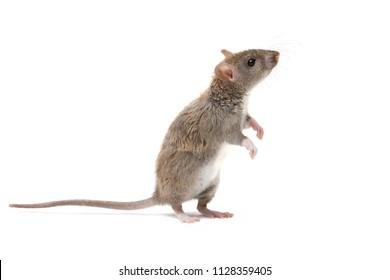rat: (7, 46, 281, 224)
